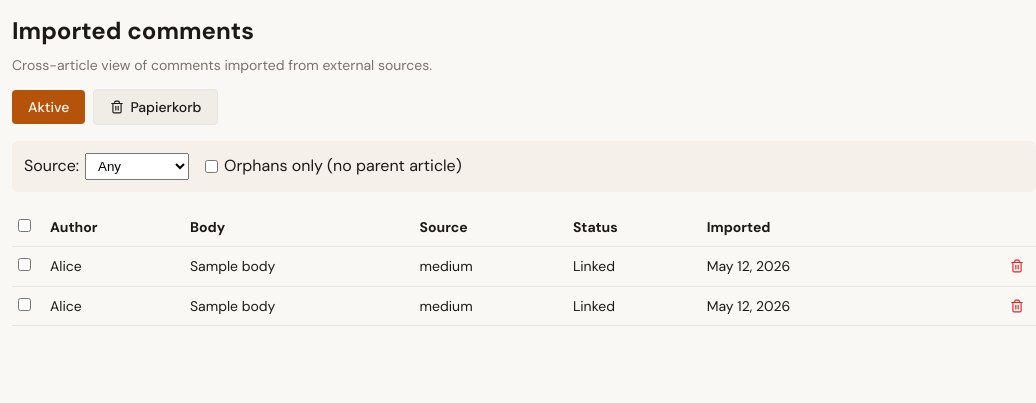
Test case: CommentsAdminSection bulk-delete wiring › toggling rows surfaces the bar at count >= 1
Click the checkbox with test id "comments-admin-select-row-1" at (24, 265), box [18,258,31,271]
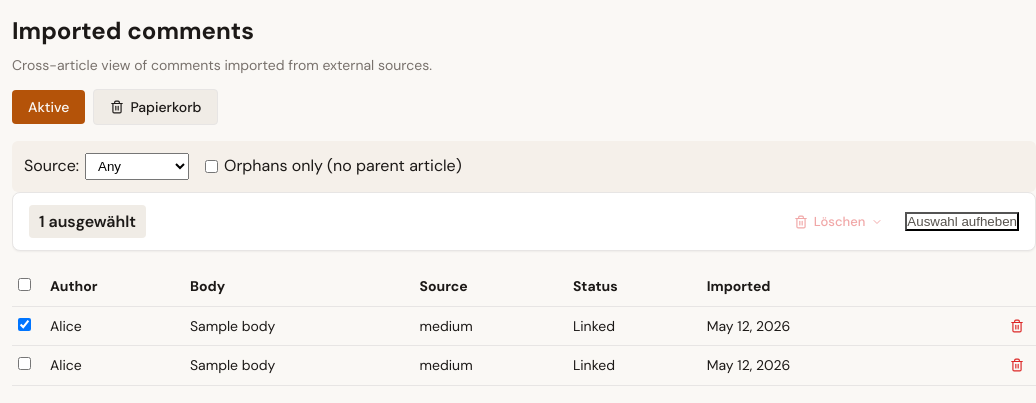
Result: the element with test id "comment-bulk-action-bar" is shown at [12,192,1035,251]
Result: the button with test id "comment-bulk-delete-menu" is disabled at [784,209,893,234]
